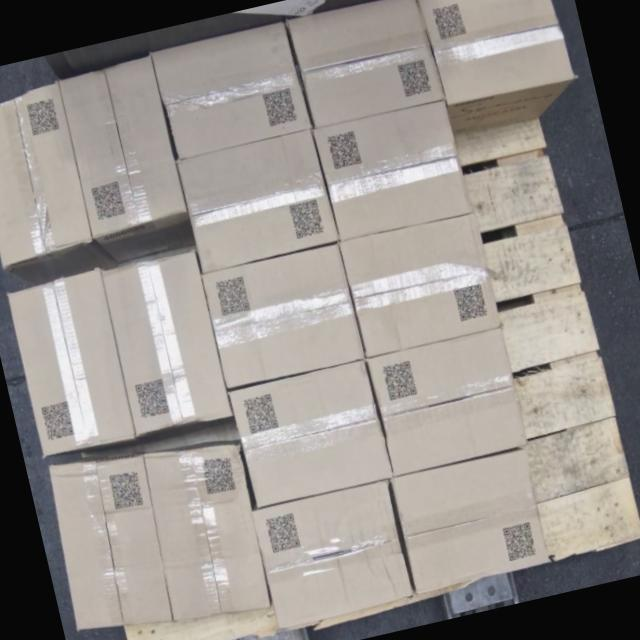box: (130, 432, 278, 630), (39, 444, 183, 640), (200, 241, 368, 391), (56, 54, 190, 242), (102, 252, 236, 440), (7, 270, 138, 460), (254, 481, 418, 630), (231, 360, 395, 509), (372, 328, 532, 476), (341, 211, 501, 359), (392, 450, 550, 594), (153, 22, 313, 162), (316, 102, 472, 242), (180, 135, 338, 272), (290, 0, 446, 130), (0, 84, 94, 266), (423, 0, 575, 106)
